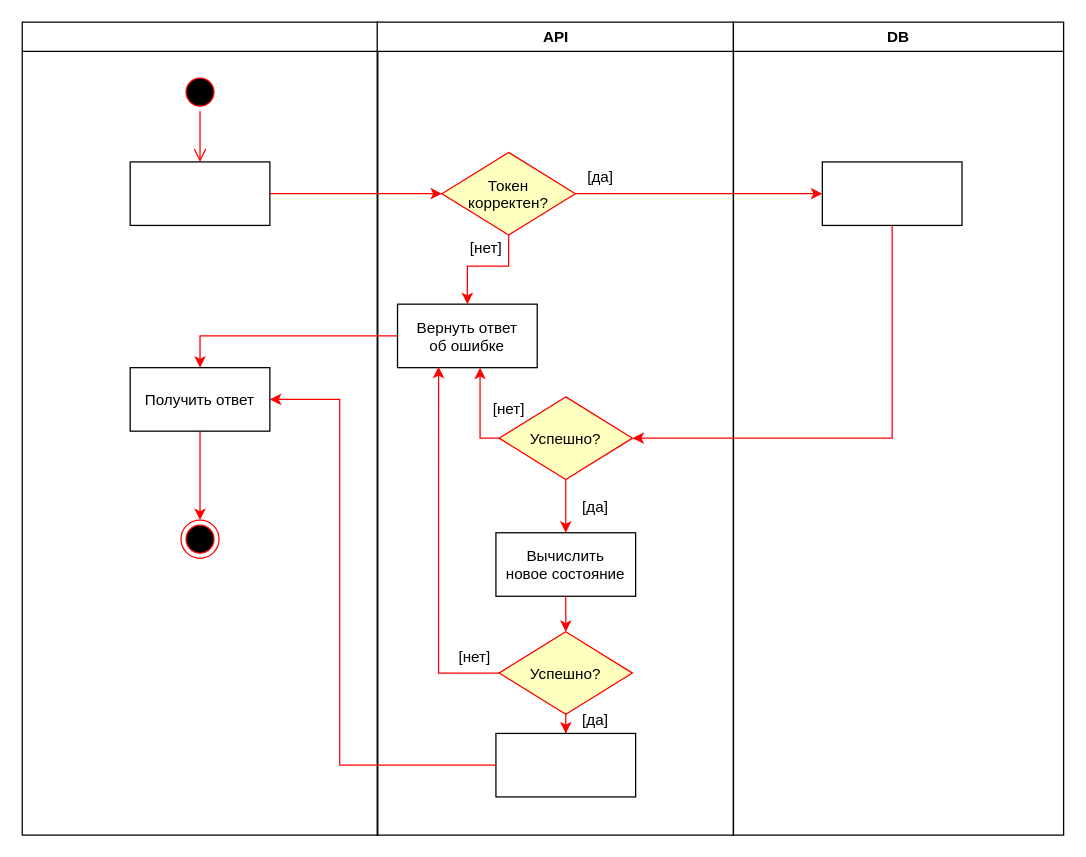
This 1086x857 diagram has some shape labels left out. Here are the shapes that lost their labels. From the top down, the box of each, then its label:
(129, 161, 270, 225): Отправить изменения
(821, 161, 962, 225): Получить параметры МС
(21, 21, 378, 835): Client
(495, 732, 636, 797): Отправить новое состояние
